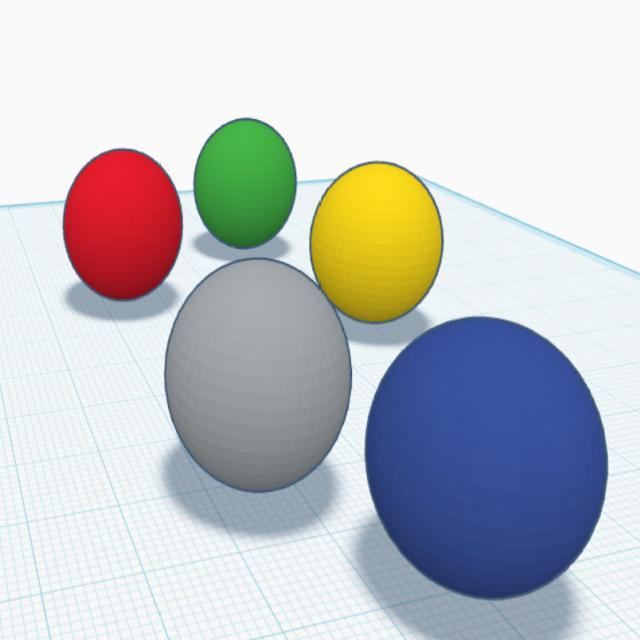sphere: (362, 314, 611, 604), (162, 255, 354, 498), (306, 157, 447, 327), (60, 146, 185, 304), (190, 114, 300, 252)
